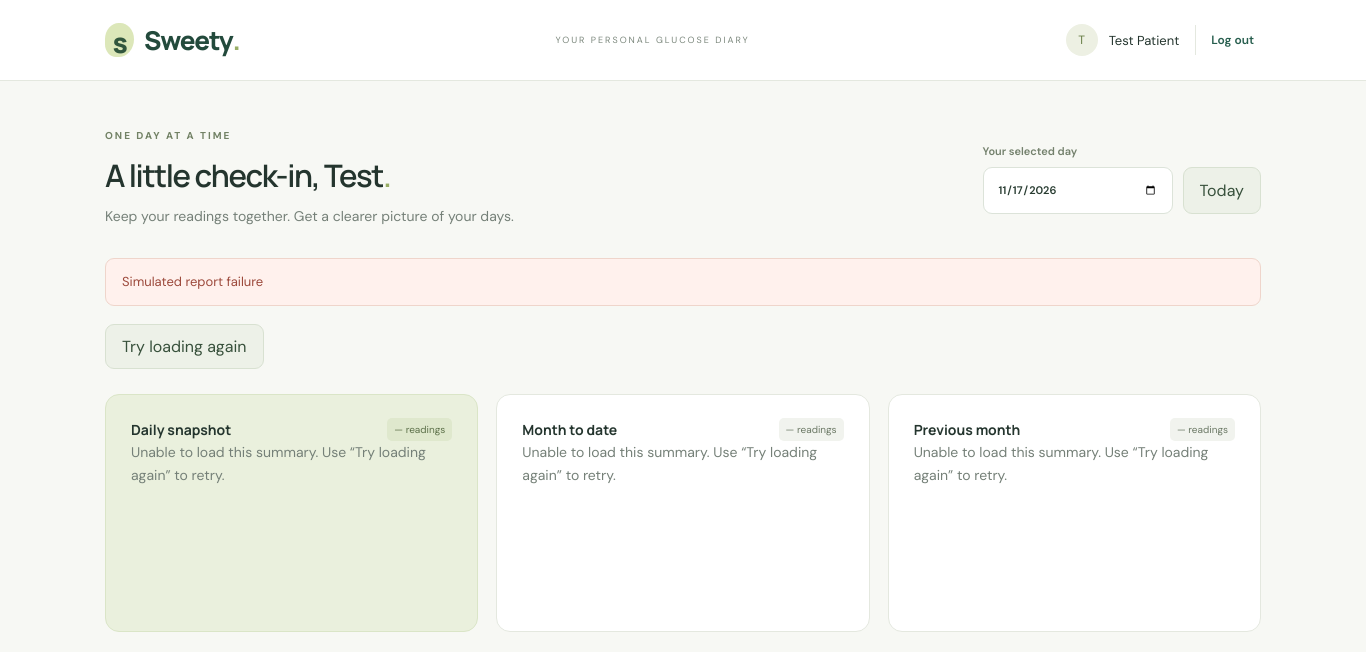
Test: failed reports show errors instead of indefinite loading and retry recovers
Expected: the message "Simulated report failure" is shown, [105, 258, 1261, 306]
Expected: the text "Unable to load this summary" is shown 3 times, [131, 441, 452, 487]; [522, 441, 844, 487]; [914, 441, 1235, 487]
Click the button "Try loading again".
click(184, 346)  # box [105, 324, 264, 369]
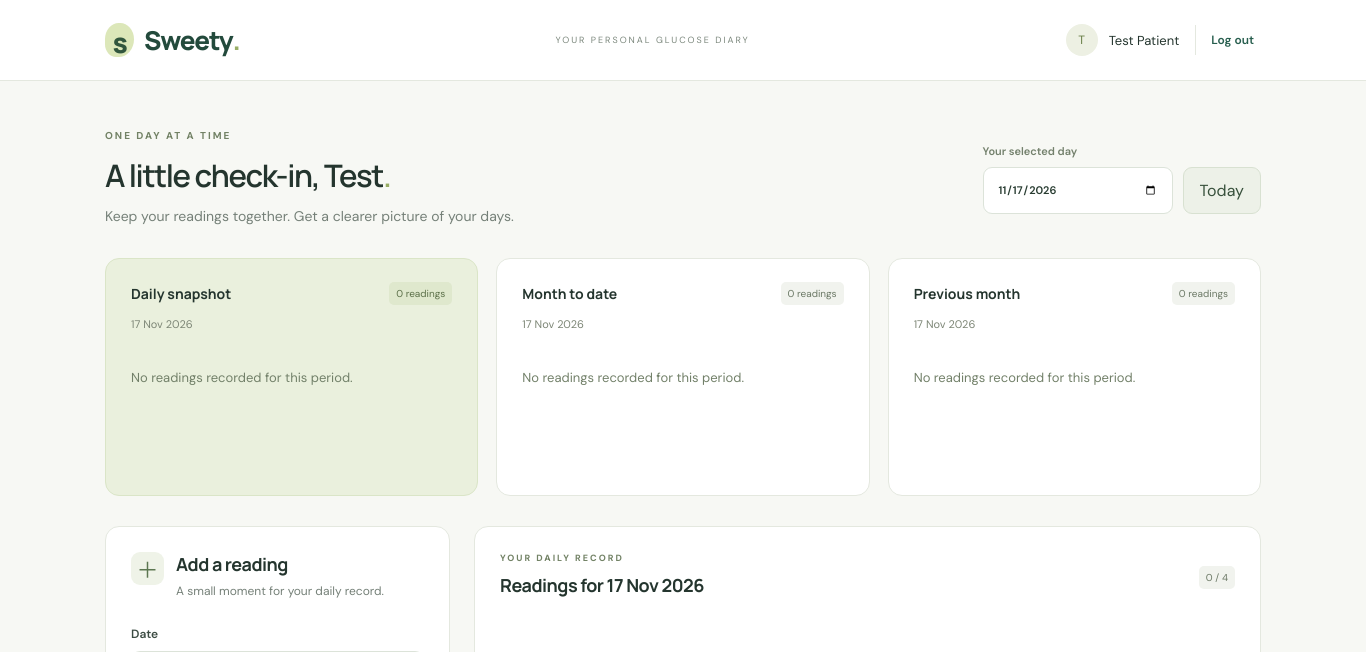
Now the message "Simulated report failure" is gone
Now the text "No readings recorded for this period." is shown 3 times, box [131, 369, 353, 386]; [522, 369, 744, 386]; [914, 369, 1135, 386]
